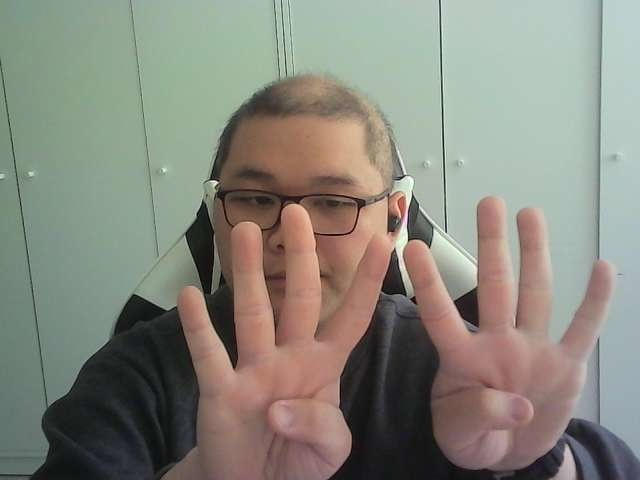Eight: (178, 195, 619, 480)
